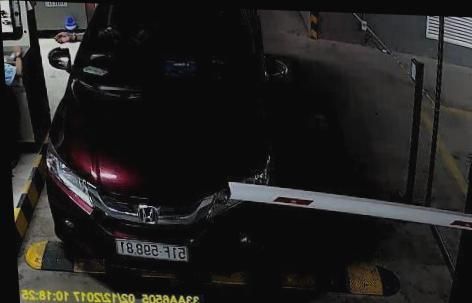License_Plate: (114, 235, 190, 261)
